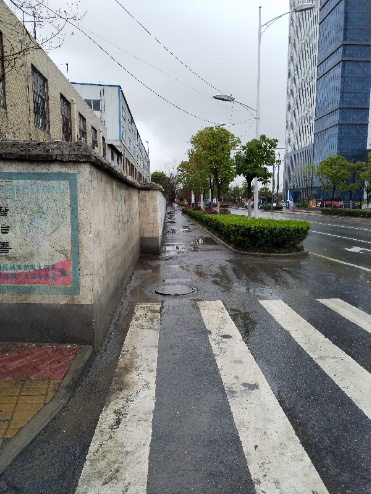good: (137, 260, 217, 318)
